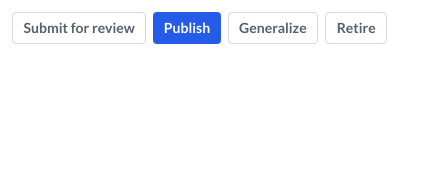
article actions › renders the reviewer refusal inline after a 409 on publish
Click the button "Publish".
click(187, 28)  # box [153,12,221,44]
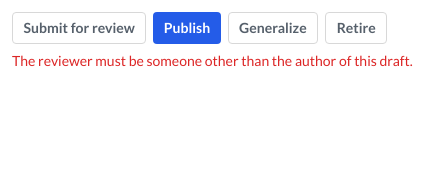
Expected: the message reads "The reviewer must be someone other than the author of this draft.", [12,52,413,69]
